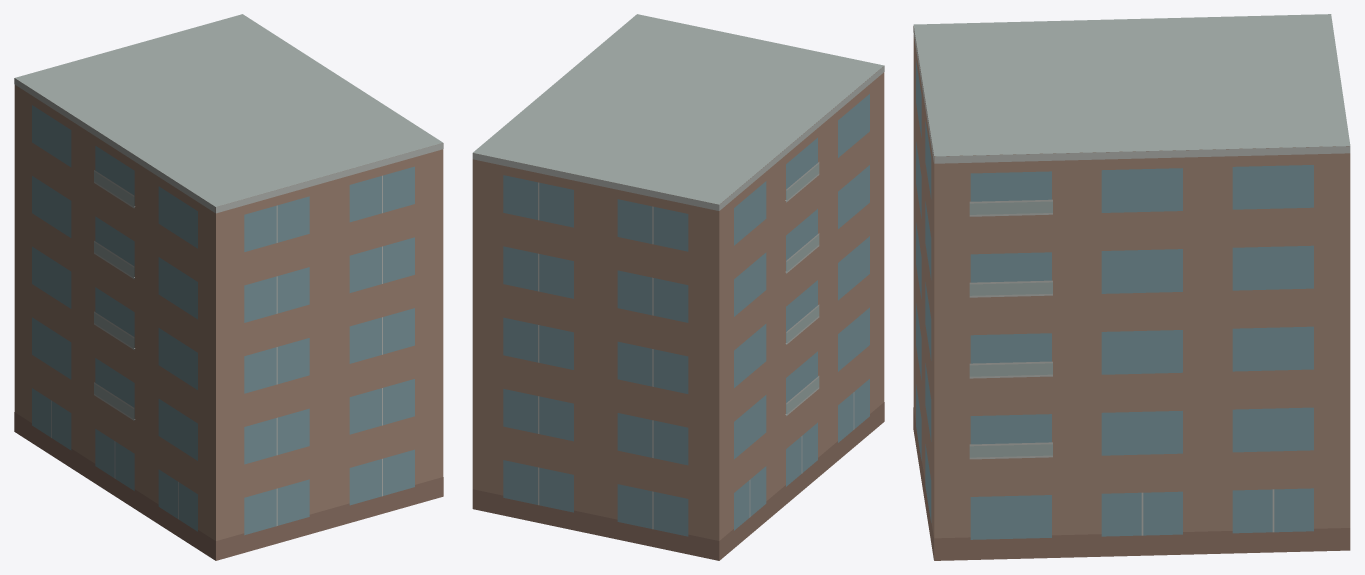
Rendered from survey-upis-32883381.glb.
3 views of the same model, side by side, from view 1: azimuth 30°, elevation 25°; view 2: azimuth 150°, elevation 25°; view 3: azimuth 270°, elevation 25° (orthographic). The views are drawn at different scales.
Visible parts, largest first — view 1: survey-upis-32883381.tmp; view 2: survey-upis-32883381.tmp; view 3: survey-upis-32883381.tmp.
Boxes of the visible parts, x1,y1,x2,y2 form: survey-upis-32883381.tmp: (14,14,443,560); survey-upis-32883381.tmp: (472,14,884,560); survey-upis-32883381.tmp: (913,14,1350,560).
Bounding box in the file's own units: 10.17 × 13.45 × 13.18.
